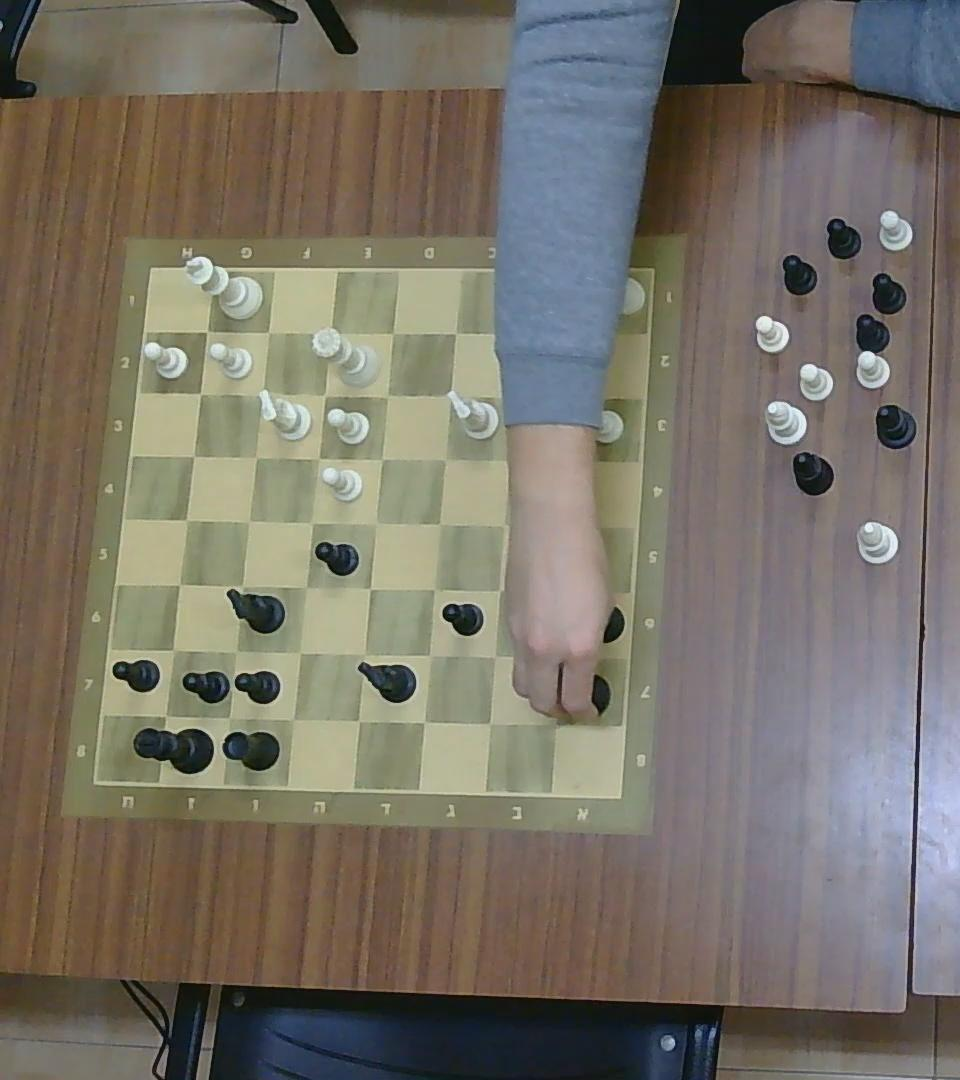xcorner: (496, 384, 525, 415), (476, 708, 503, 736), (542, 708, 569, 736), (215, 702, 241, 731), (566, 320, 593, 347), (280, 704, 305, 733), (546, 640, 571, 669), (563, 446, 588, 475), (411, 708, 436, 735), (167, 570, 192, 597), (483, 641, 508, 668), (346, 707, 371, 734), (506, 319, 533, 344), (153, 702, 178, 728), (561, 384, 586, 410), (287, 639, 311, 666), (161, 636, 185, 663), (351, 640, 376, 665), (174, 506, 198, 532), (223, 638, 247, 664), (229, 572, 253, 598), (427, 511, 451, 537), (318, 319, 342, 345), (552, 577, 576, 603), (558, 511, 581, 538), (418, 642, 442, 667), (491, 512, 516, 536), (236, 508, 259, 534), (444, 319, 467, 345), (294, 574, 317, 599), (364, 510, 387, 535), (421, 576, 444, 601), (376, 382, 399, 407), (498, 448, 521, 473), (181, 443, 204, 467), (300, 509, 323, 533), (306, 445, 329, 469), (257, 320, 280, 344), (487, 577, 511, 600), (250, 381, 273, 405), (245, 445, 267, 469), (196, 318, 218, 342), (359, 575, 381, 599), (188, 381, 210, 405), (381, 320, 403, 344), (433, 447, 455, 470), (438, 383, 460, 406), (371, 447, 392, 470), (315, 383, 335, 405)
